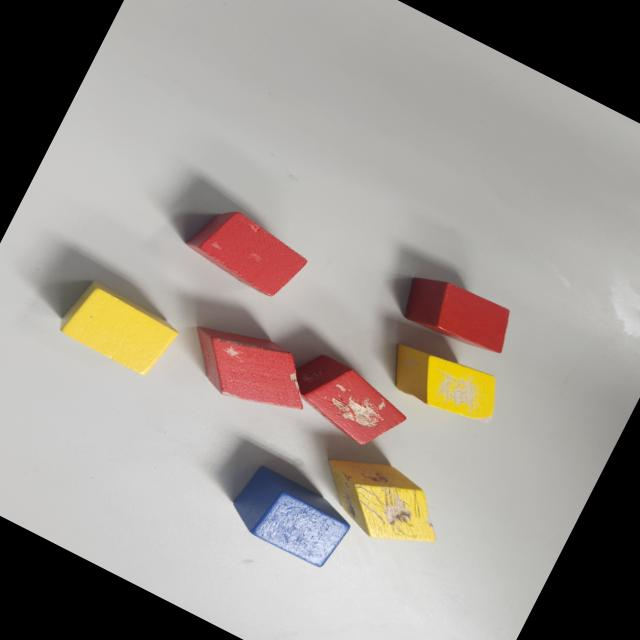blue: (223, 461, 358, 574)
broken: (174, 308, 324, 430), (307, 439, 454, 562), (280, 347, 416, 459), (180, 196, 314, 306), (378, 329, 512, 436)
red: (394, 264, 520, 364)
yellow: (54, 275, 184, 383)
